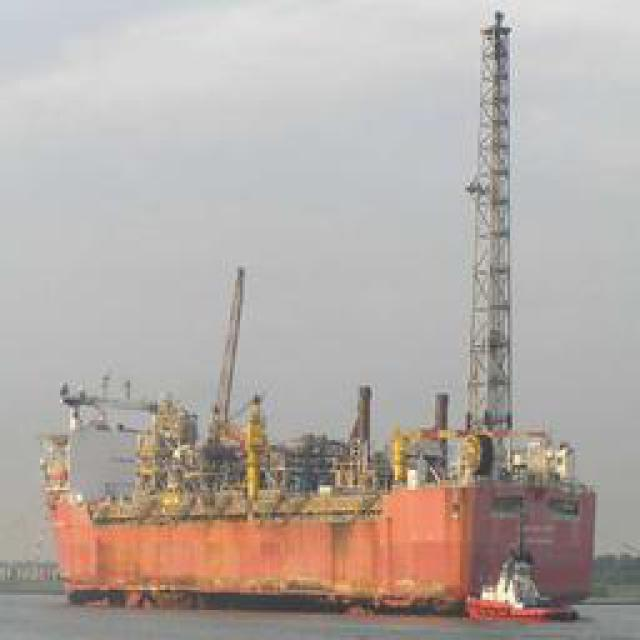Ship: (42, 396, 610, 621)
